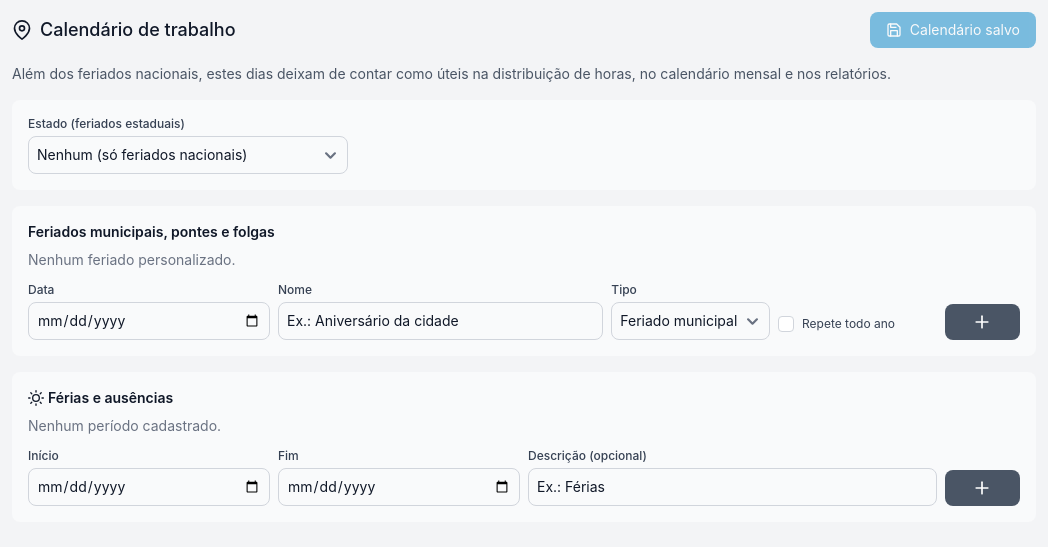
Test: WorkCalendarSettings › valida e adiciona feriado municipal recorrente
This screenshot has width=1048, height=547.
Expected: the dropdown labelled "Estado (feriados estaduais)" is shown, 28,136 -> 348,174
Click the button named "Adicionar feriado" at (982, 322), box 945,304 -> 1020,340
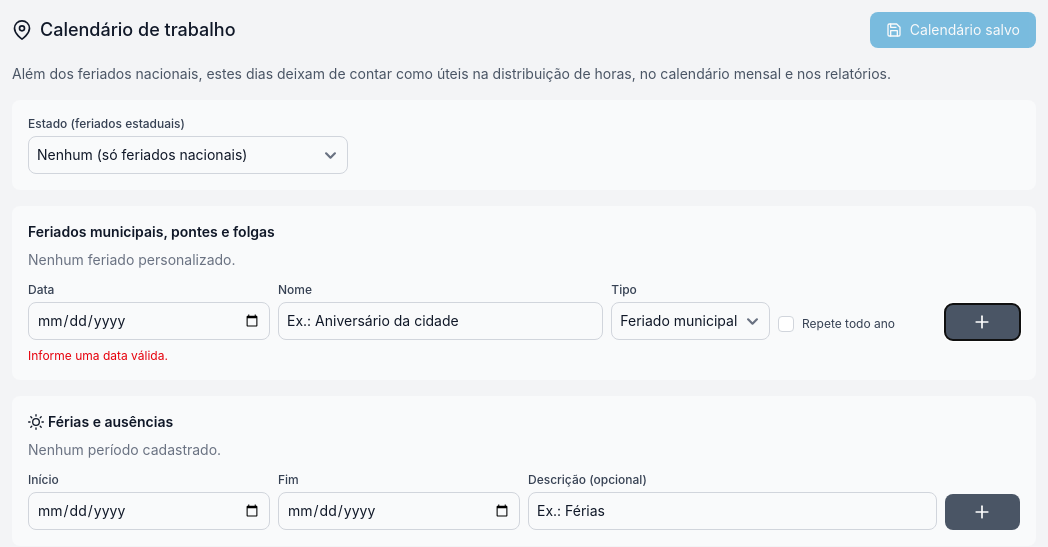
Expected: the message reads "Informe uma data válida.", 28,348 -> 168,363
Type "2026-01-25" into the date field labelled "Data" at (149, 321), box 28,302 -> 270,340
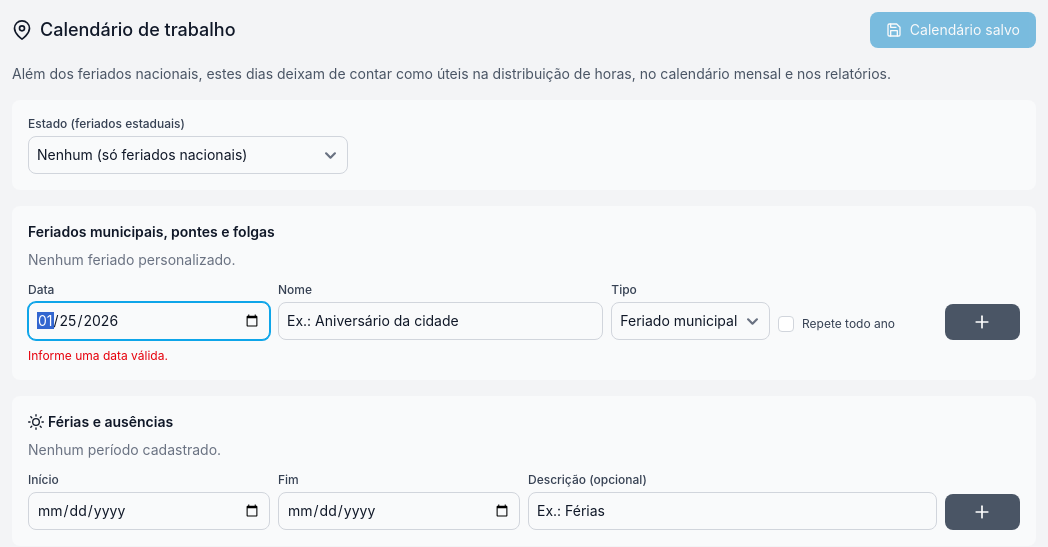
Click the button named "Adicionar feriado" at (982, 322), box 945,304 -> 1020,340
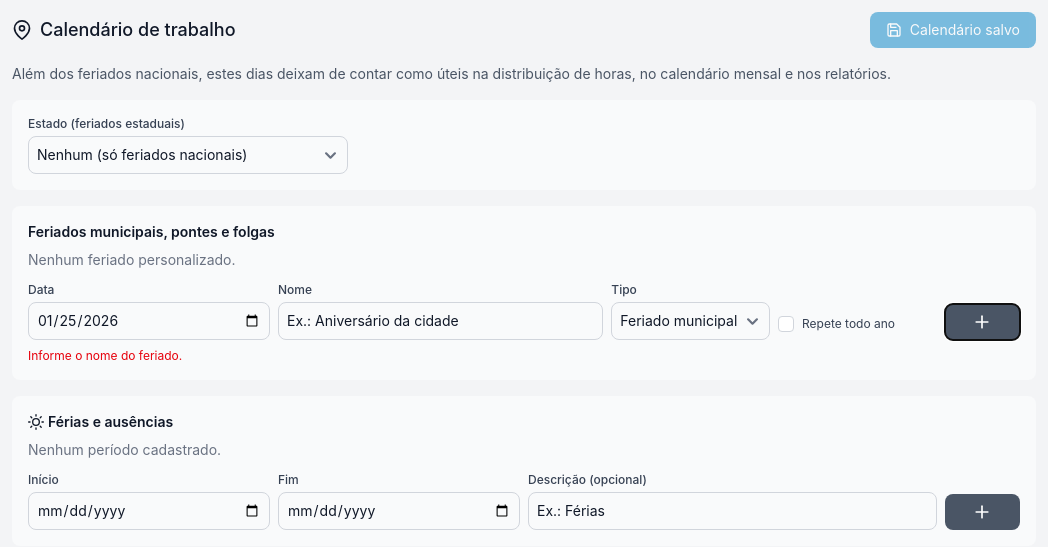
Expected: the message reads "Informe o nome do feriado.", 28,348 -> 182,363
Type "Aniversário de São Paulo" into the field labelled "Nome" at (441, 321), box 278,302 -> 603,340
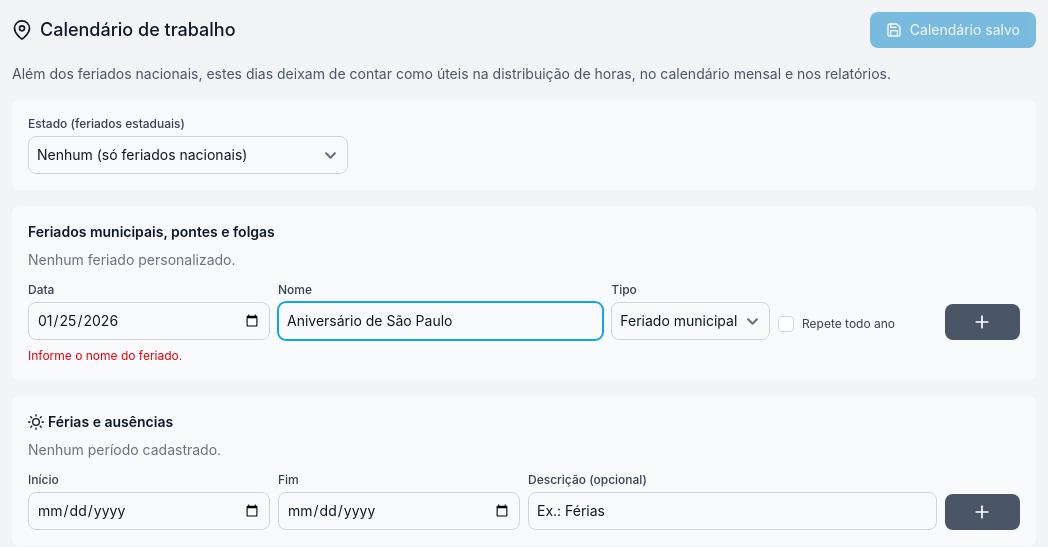
Click the checkbox labelled "Repete todo ano" at (786, 324), box 778,316 -> 794,332
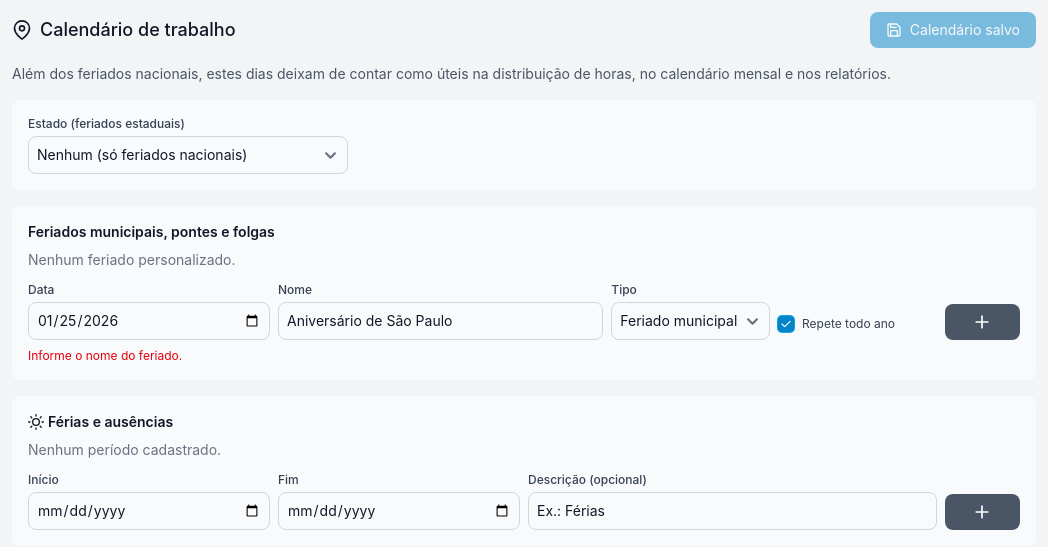
Click the button named "Adicionar feriado" at (982, 322), box 945,304 -> 1020,340
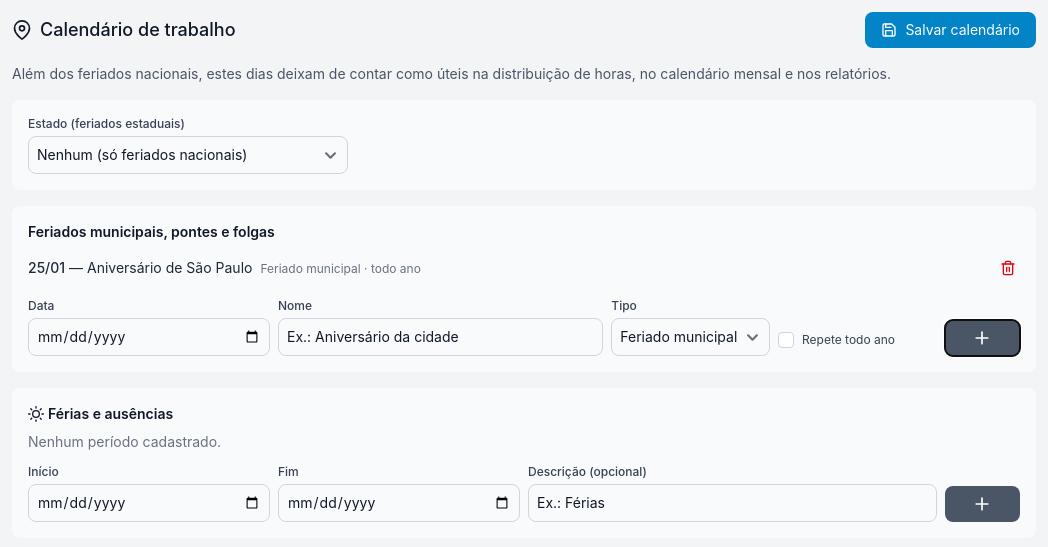
Expected: the message "Informe o nome do feriado." is gone
Expected: the list named "Feriados personalizados" shows "25/01 — Aniversário de São Paulo", 28,250 -> 1020,286
Expected: the button "Salvar calendário" is enabled, 865,12 -> 1036,48
